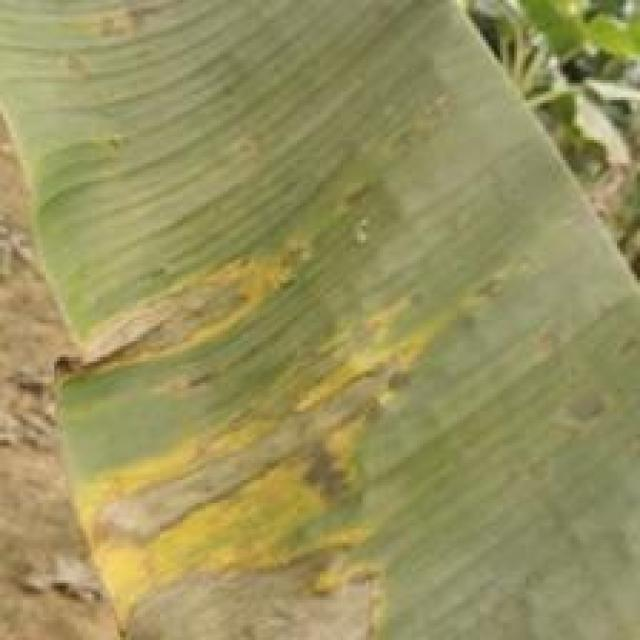Downey_mildrew: (0, 197, 489, 640)
